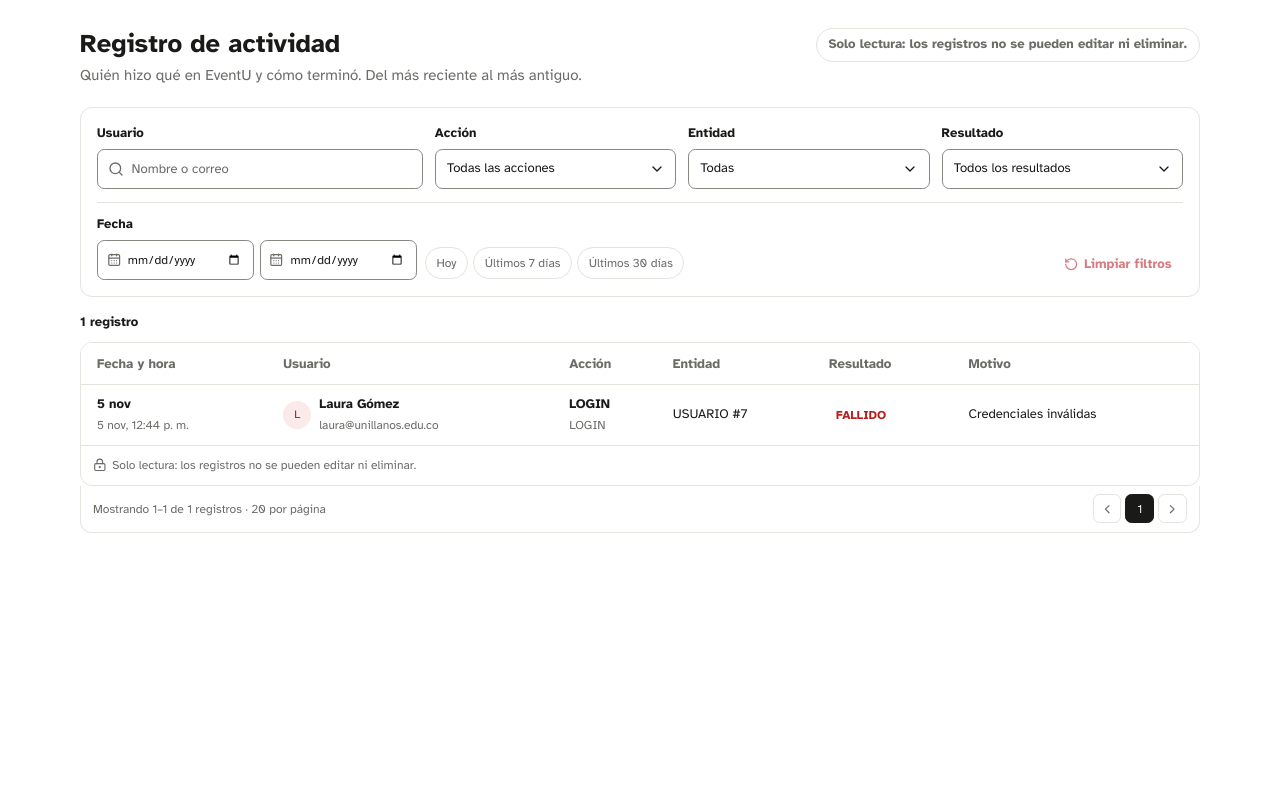
Scenario: RegistroActividad › permite limpiar filtros y muestra el error de rango de fechas del backend
The width and height of the screenshot is (1280, 800).
Expected: the text "Laura Gómez" is shown, [319,396,399,412]
Type "2026-12-01" into the date field named "Fecha desde" at x=176, y=260, box [97,240,254,280]
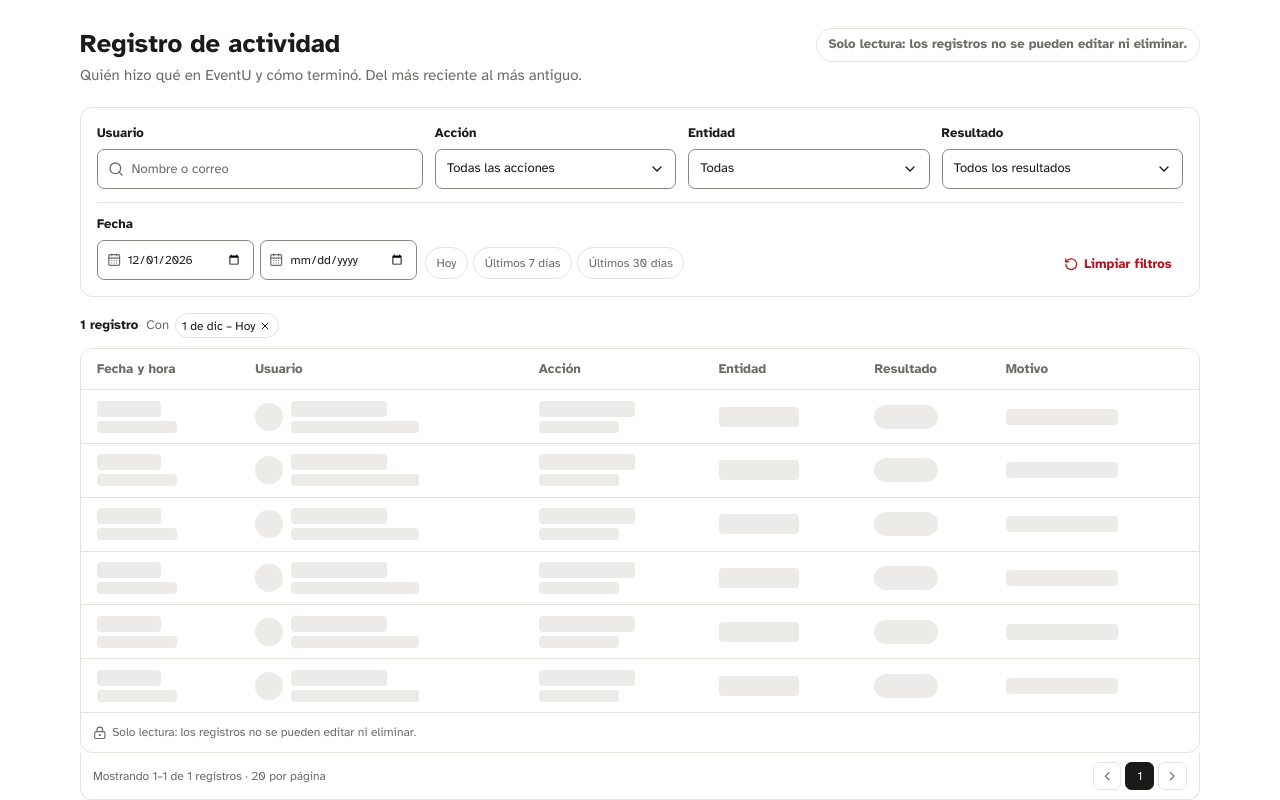
Type "2026-11-01" into the date field named "Fecha hasta" at x=338, y=260, box [260,240,417,280]
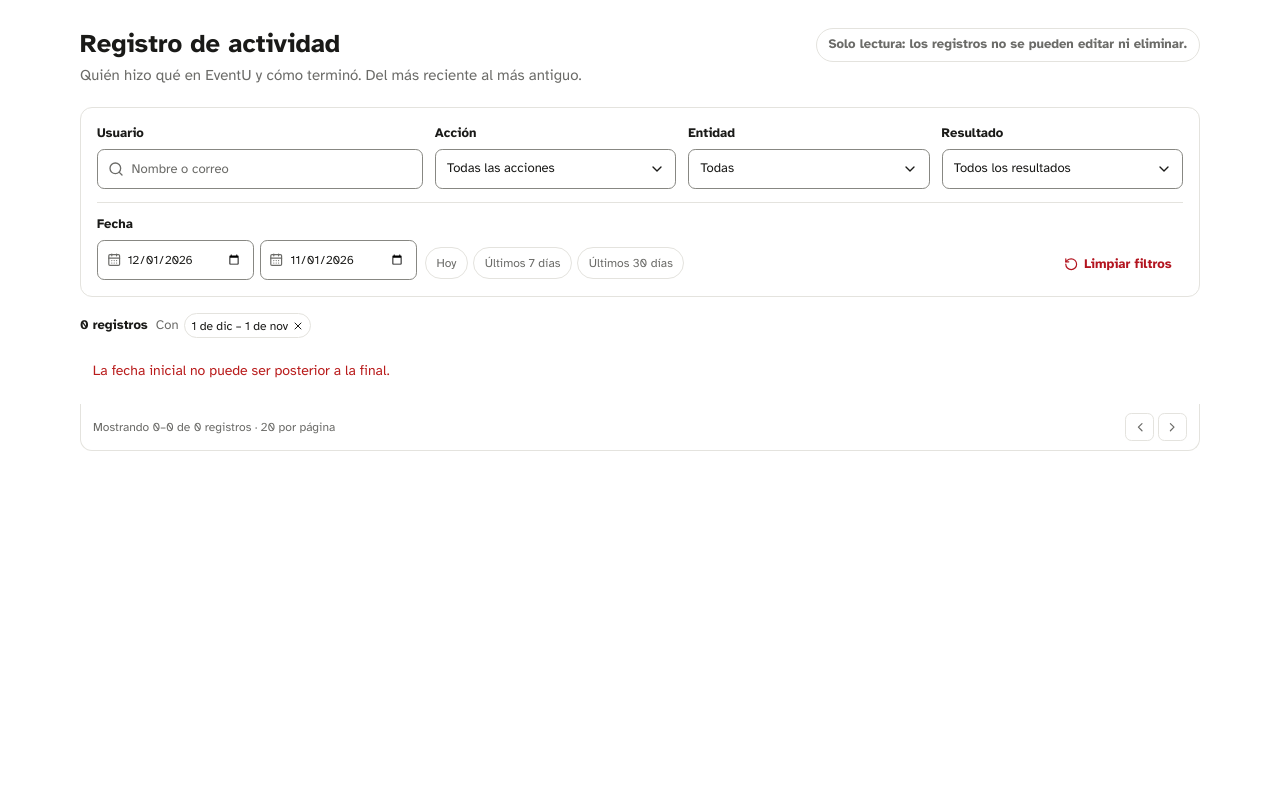
Expected: the message reads "La fecha inicial no puede ser posterior a la final.", [93,362,390,380]
Click the button "Limpiar filtros" at x=1118, y=264, box [1053,248,1183,280]
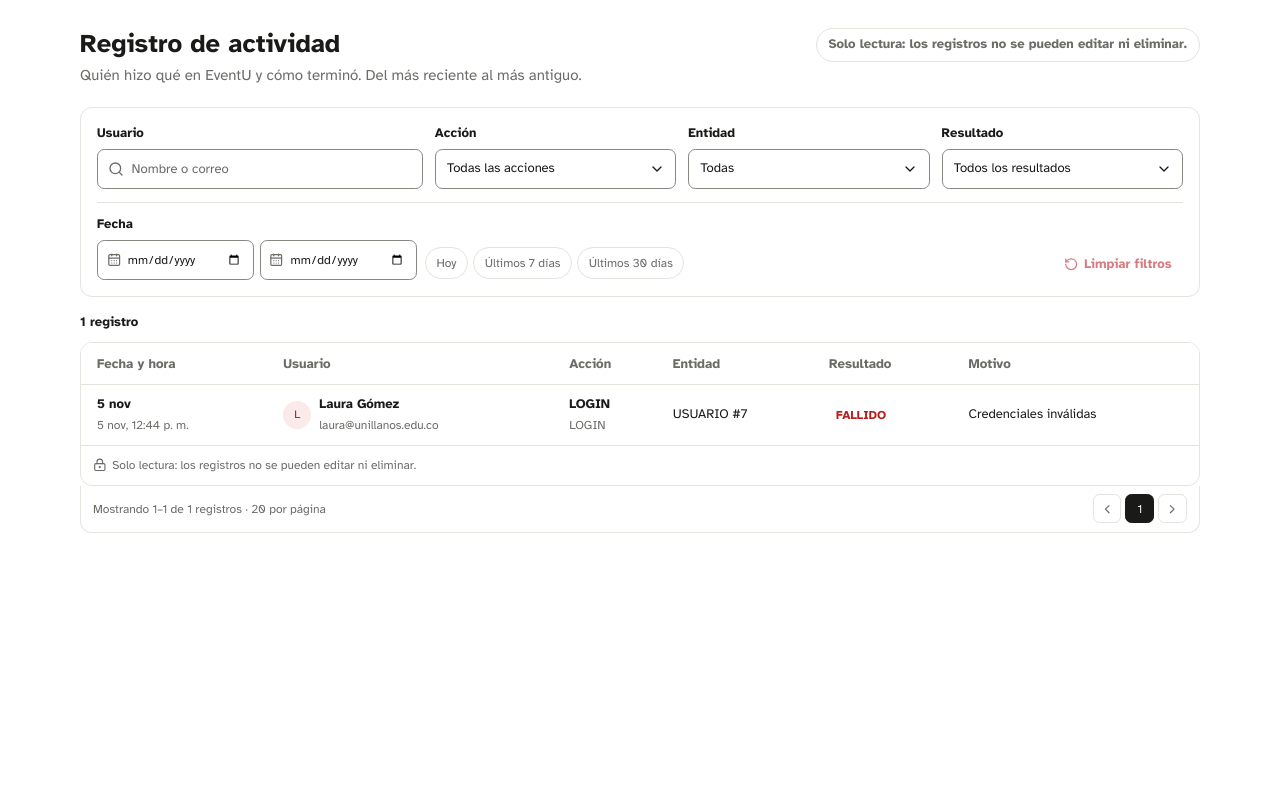
Expected: the text "Laura Gómez" is shown, [319,396,399,412]
